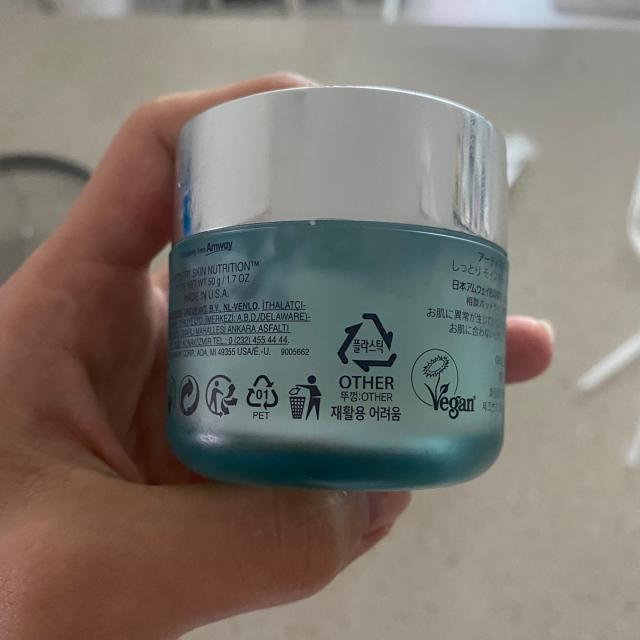Plastic: (335, 310, 400, 374)
